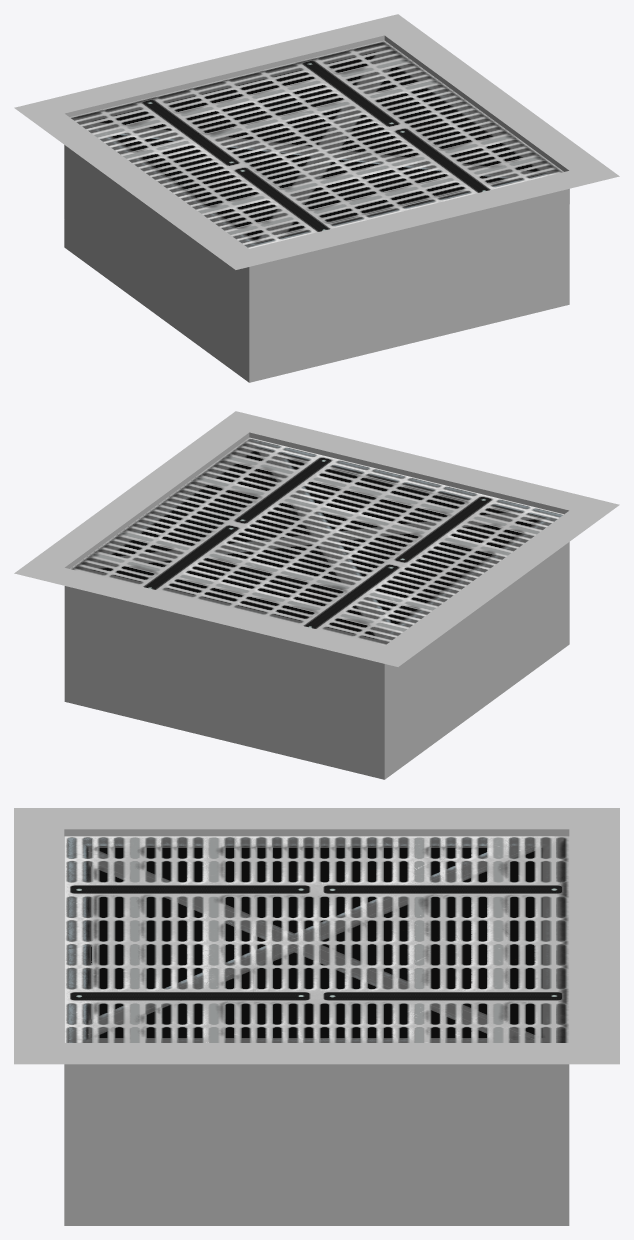
Rendered from Floor_Hole_02.FBX.
3 renders of one model, top to bottom at view 1: azimuth 30°, elevation 25°; view 2: azimuth 150°, elevation 25°; view 3: azimuth 270°, elevation 25°, orthographic. The views are drawn at different scales.
Visible parts, largest first — view 1: Floor_Hole_02; view 2: Floor_Hole_02; view 3: Floor_Hole_02.
Part boxes in pixels (x1,y1,x2,y2): Floor_Hole_02: [14, 14, 619, 382]; Floor_Hole_02: [14, 411, 619, 779]; Floor_Hole_02: [14, 808, 619, 1225].
Bounding box in the file's own units: 6 × 2 × 6.
